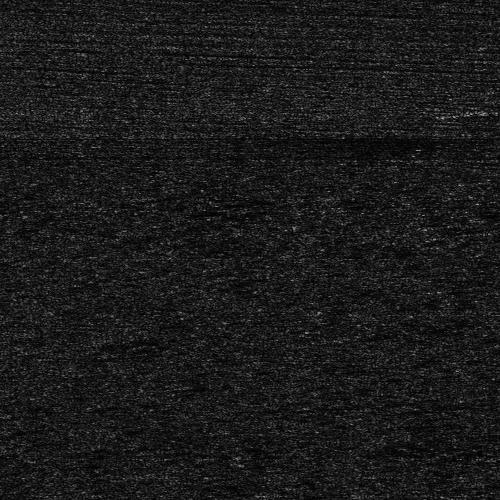object: (454, 104, 500, 115)
shadow: (481, 104, 500, 115)
